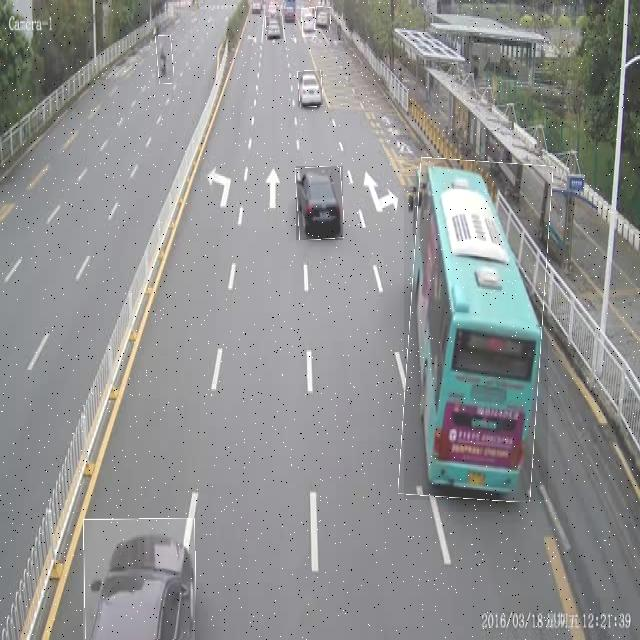Bus: (404, 159, 548, 500)
Car: (83, 518, 195, 640), (296, 166, 343, 240), (298, 71, 323, 107), (266, 16, 283, 40), (302, 8, 316, 37), (315, 7, 330, 30)
Motorcycle: (156, 36, 173, 84)
